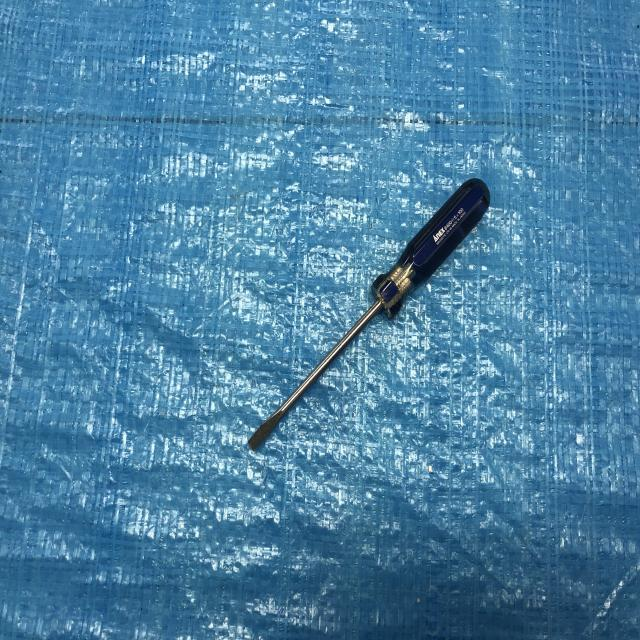screwdriver: (248, 176, 496, 457)
